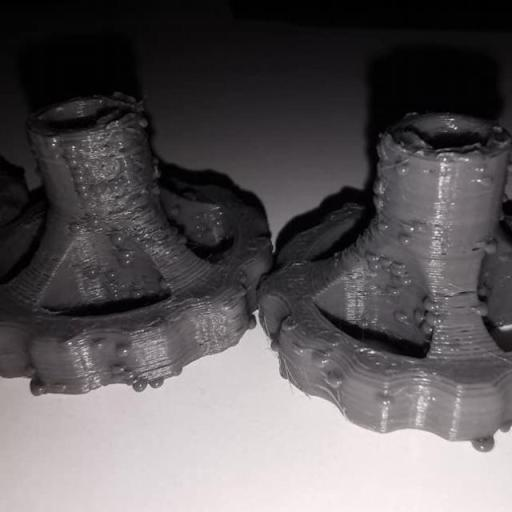blobs: (468, 297, 492, 321), (322, 372, 344, 395), (470, 434, 498, 452), (478, 236, 500, 258), (116, 246, 135, 268), (372, 390, 393, 409), (420, 292, 438, 314), (396, 232, 417, 250), (374, 219, 393, 237), (62, 138, 81, 156), (391, 158, 409, 176), (66, 220, 84, 238), (392, 309, 411, 326), (371, 181, 388, 199), (419, 319, 435, 338), (84, 264, 102, 280), (130, 378, 148, 394), (360, 252, 380, 266), (109, 233, 126, 249), (395, 273, 414, 287), (377, 256, 393, 272), (116, 344, 132, 360), (90, 340, 109, 353), (403, 221, 419, 236), (30, 382, 46, 396), (110, 362, 125, 376), (74, 181, 90, 194), (103, 269, 119, 282), (22, 364, 36, 378), (66, 155, 78, 171), (148, 377, 164, 389), (134, 118, 151, 129), (71, 170, 84, 184), (121, 372, 136, 383)
